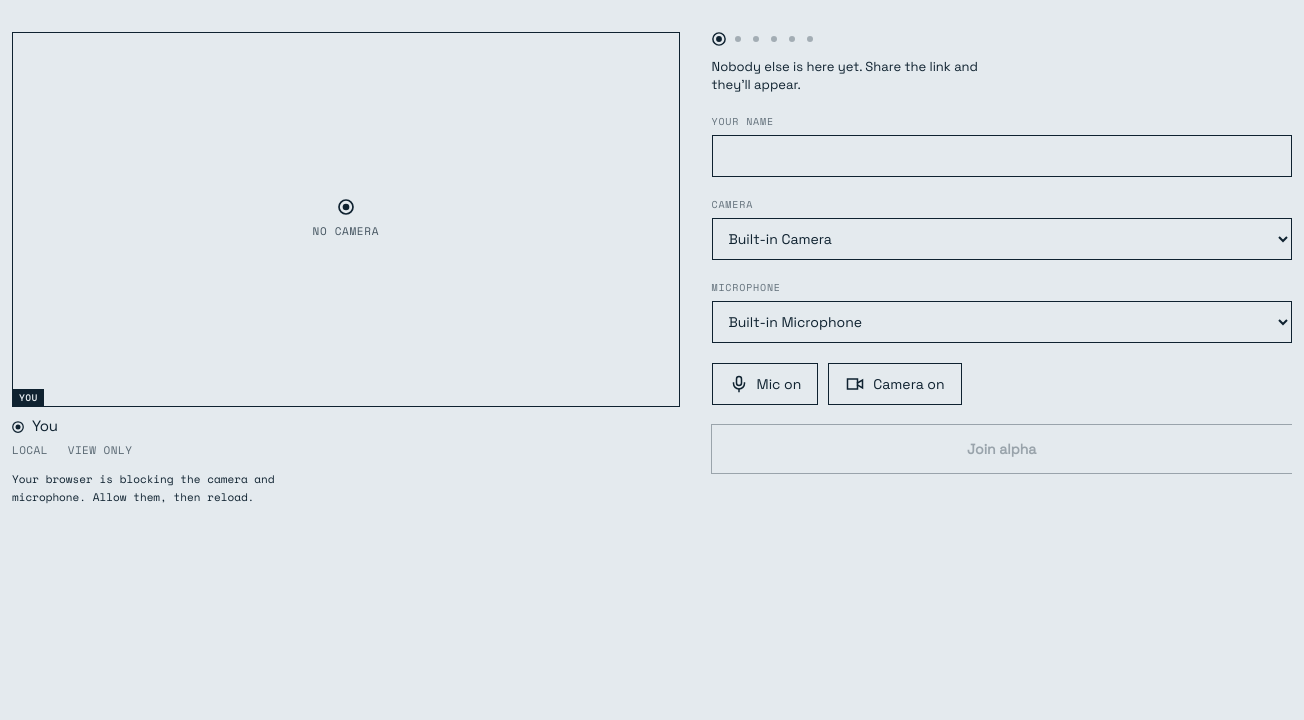
Test: PreJoin › still lets you join when the camera is blocked
Expected: the message "Your browser is blocking the camera and microphone. Allow them, then reload." is shown, 12,472 -> 281,507
Type "Ada" into the field labelled "Your name". click: (1002, 156)
box: 712,135 -> 1292,177
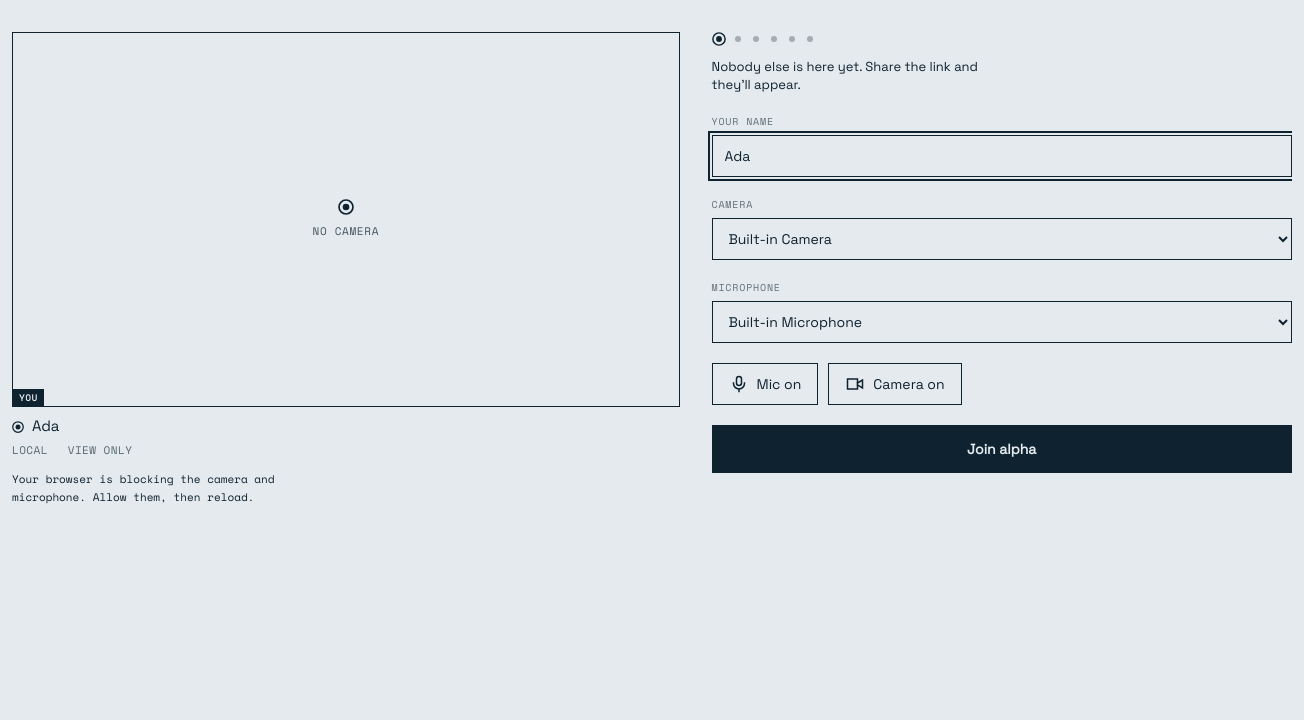
Now the button "Join alpha" is enabled, box 712,425 -> 1292,473
